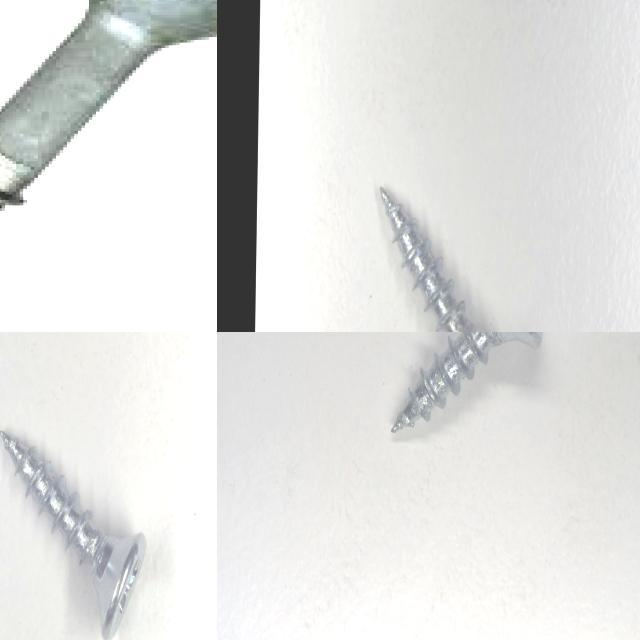Screw: (0, 0, 217, 213), (0, 430, 147, 640), (392, 332, 542, 432), (380, 187, 481, 332)
